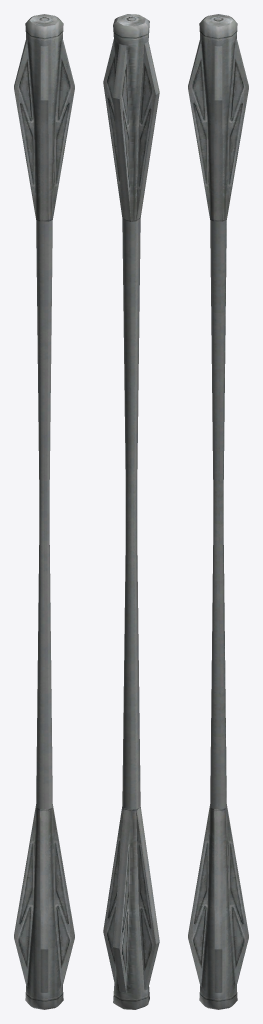
The model's file is wp_mle_lance_kaminoan_greatstaff_l0.fbx.
The picture shows the model from 3 angles, left to right: view 1: azimuth 90°, elevation 25°; view 2: azimuth 150°, elevation 25°; view 3: azimuth 270°, elevation 25°; orthographic projection.
Visible parts, largest first — view 1: mesh_node; view 2: mesh_node; view 3: mesh_node.
Part boxes in pixels (left/top/right/bottom): mesh_node: left=14, top=14, right=74, bottom=1009; mesh_node: left=103, top=14, right=159, bottom=1009; mesh_node: left=188, top=14, right=248, bottom=1009.
Size of the model in its own units: 0.0841 by 1.5 by 0.0841.
Materials: 1 (1 with a texture image).
